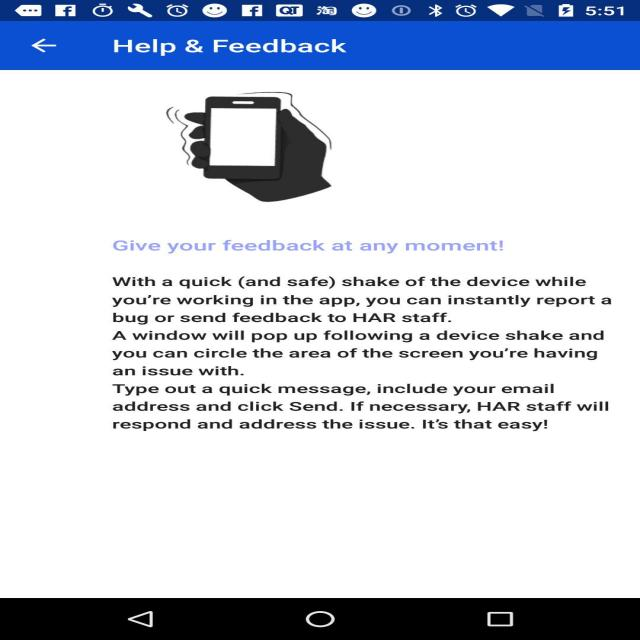button: (105, 240, 513, 254), (28, 37, 92, 56)
icon: (148, 84, 414, 194)
text: (94, 382, 629, 459), (114, 265, 604, 329), (97, 324, 614, 384), (96, 234, 520, 262), (101, 31, 358, 53)
